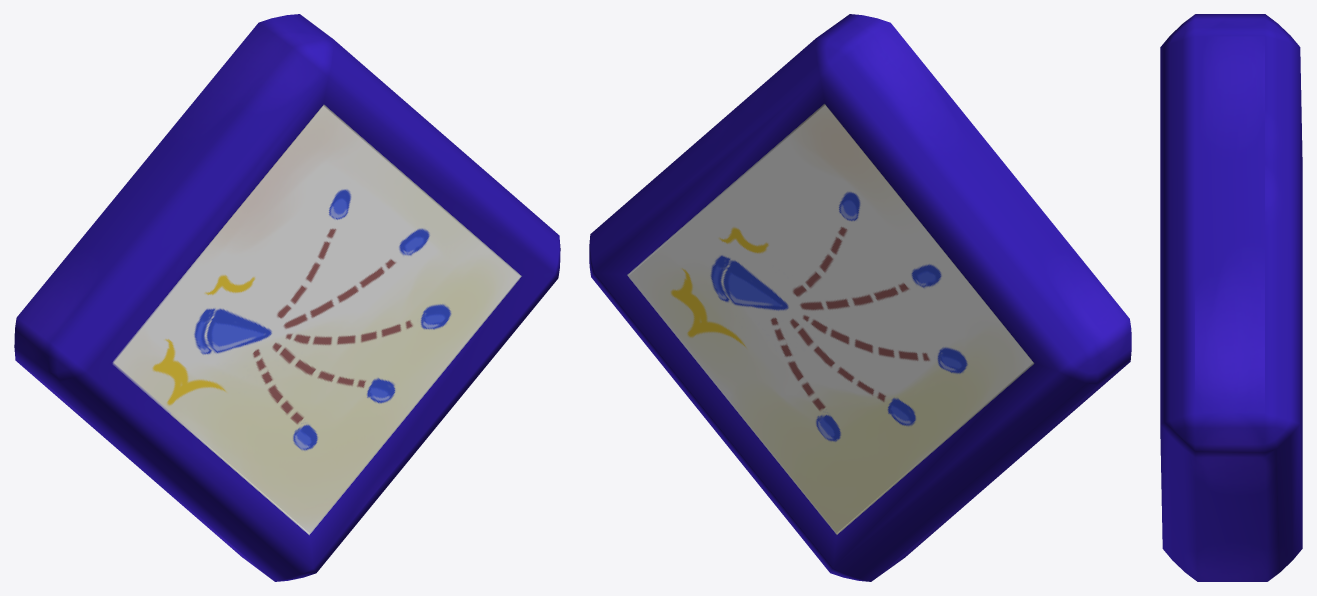
Rendered from item_2.fbx.
3 renders of one model, left to right at view 1: azimuth 30°, elevation 25°; view 2: azimuth 150°, elevation 25°; view 3: azimuth 270°, elevation 25°, orthographic. The views are drawn at different scales.
Parts seen in each view (by area): view 1: pCube1; view 2: pCube1; view 3: pCube1.
Boxes of the visible parts, box(x1,y1,x2,y2) form: pCube1: box(14, 14, 560, 581); pCube1: box(589, 14, 1131, 581); pCube1: box(1160, 14, 1302, 581).
Bounding box in the file's own units: 77.41 × 77.41 × 17.94.
